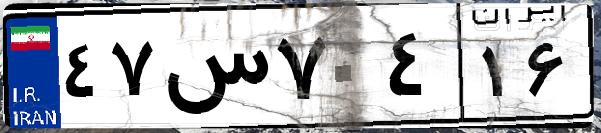0: (330, 28, 385, 110)
1: (475, 38, 525, 113)
4: (385, 28, 445, 110), (57, 26, 110, 100)
6: (525, 38, 570, 115)
7: (270, 28, 330, 110), (110, 28, 158, 98)
س: (158, 20, 270, 120)
